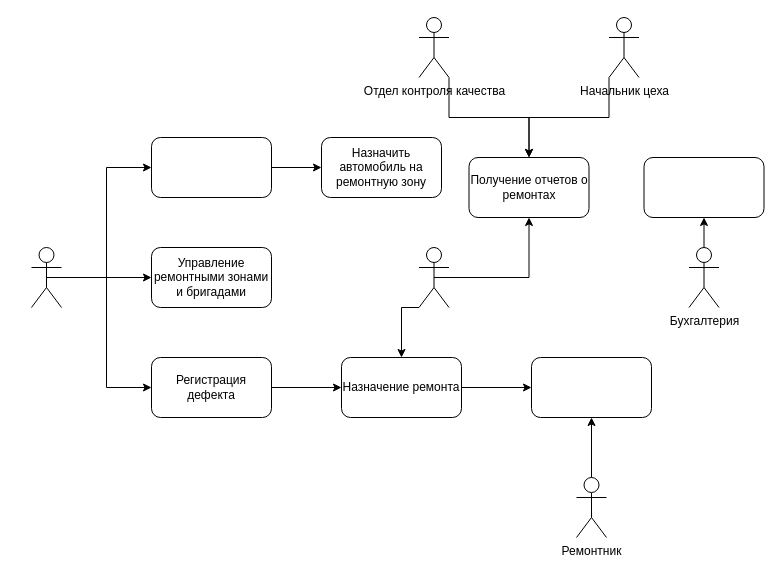
The diagram is 782 pixels wide and 576 high, and some of its shapes have lost their labels. Here are the shapes that lost their labels. From the top down, the centre of each, then its label:
At pixel 211 167: "Мониторинг свободных и занятых мест".
At pixel 703 187: "Получение месячных отчетов".
At pixel 46 277: "Диспетчер".
At pixel 433 277: "Бригадир".
At pixel 591 387: "Регистрация начала и конца ремонта".
